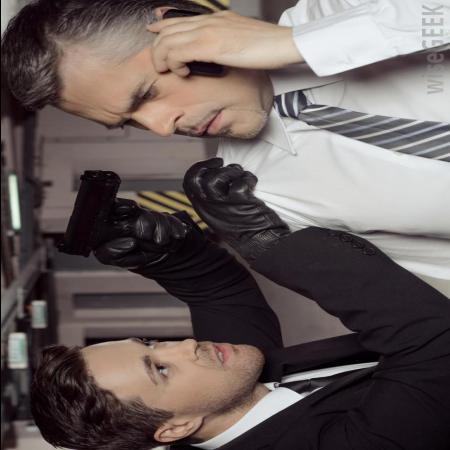Pistol: (51, 170, 198, 264)
